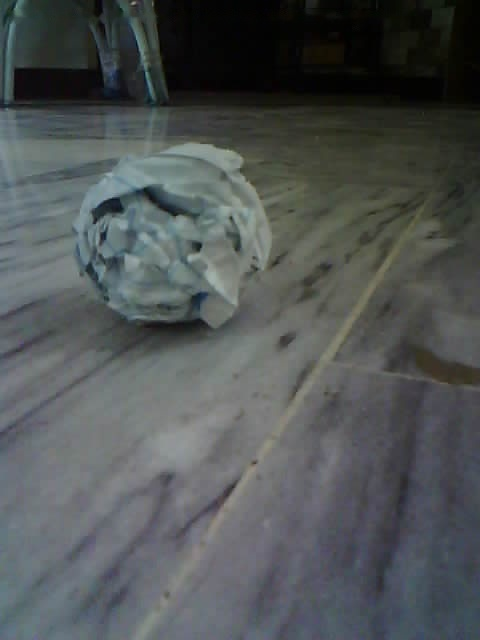paper: (73, 147, 269, 331)
